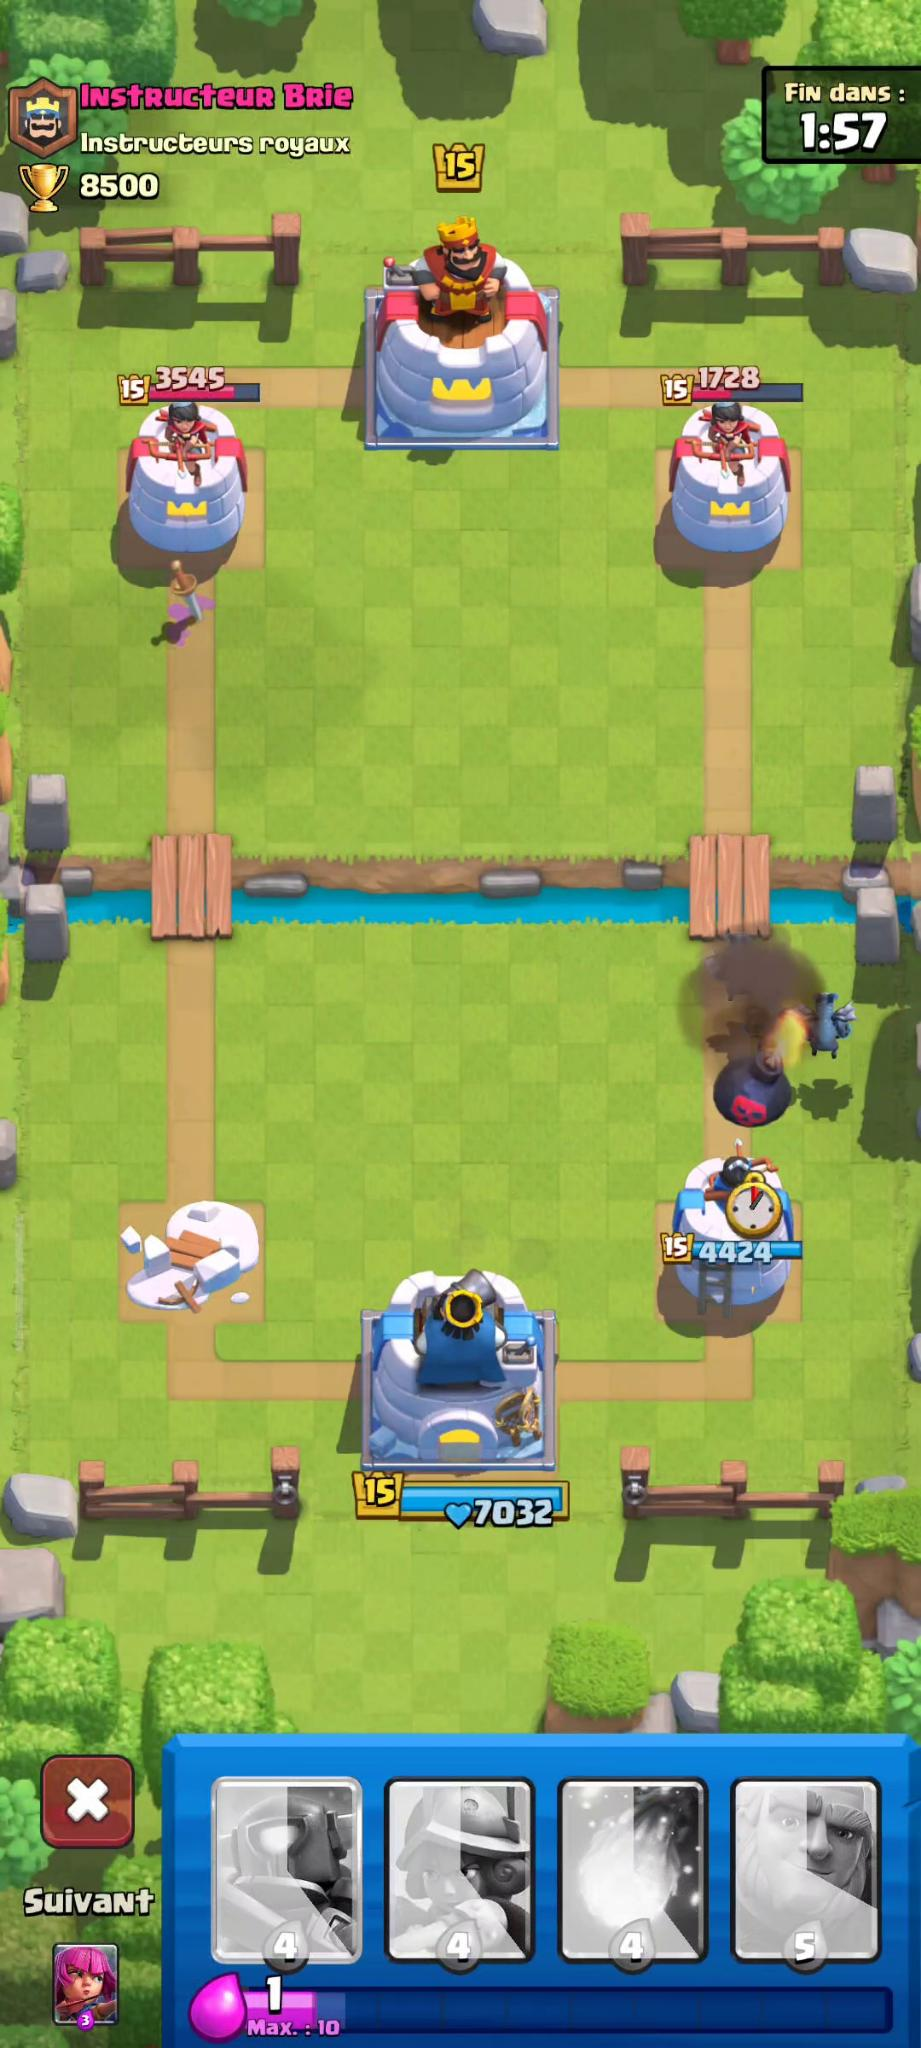gargouille: (797, 978, 877, 1075), (702, 923, 771, 1010)
